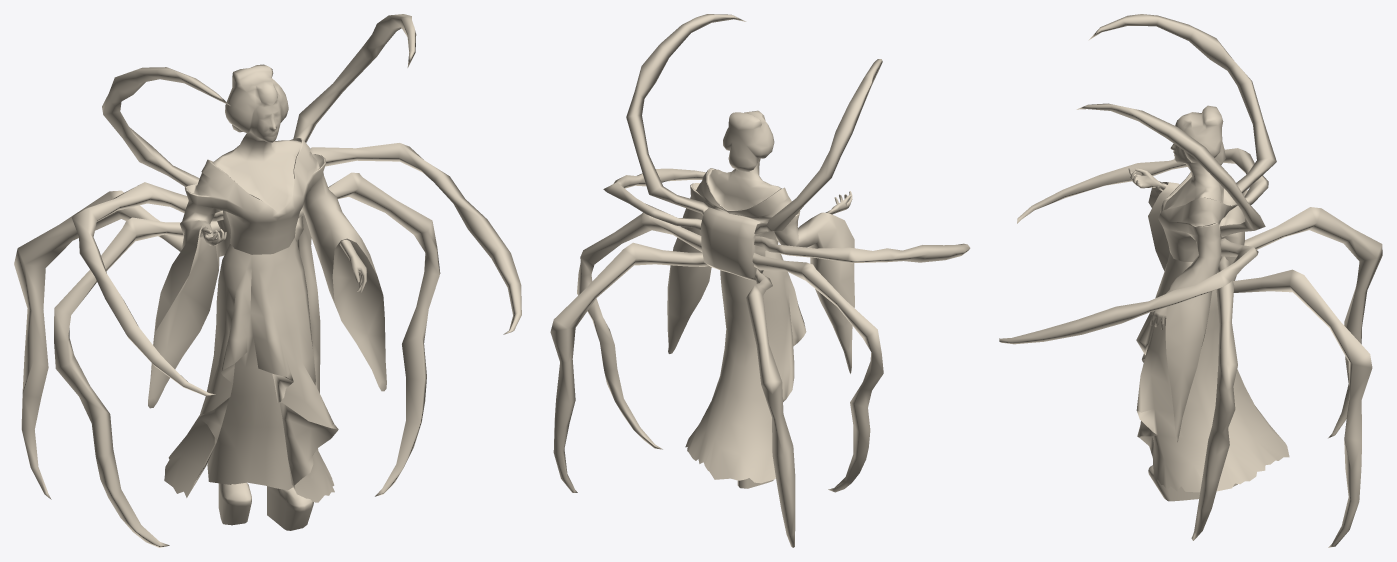
The model's file is body-base.glb.
3 views of the same model, side by side, from view 1: azimuth 30°, elevation 25°; view 2: azimuth 150°, elevation 25°; view 3: azimuth 270°, elevation 25° (orthographic). The views are drawn at different scales.
Bounding box in the file's own units: 2.08 × 2.59 × 2.09.
